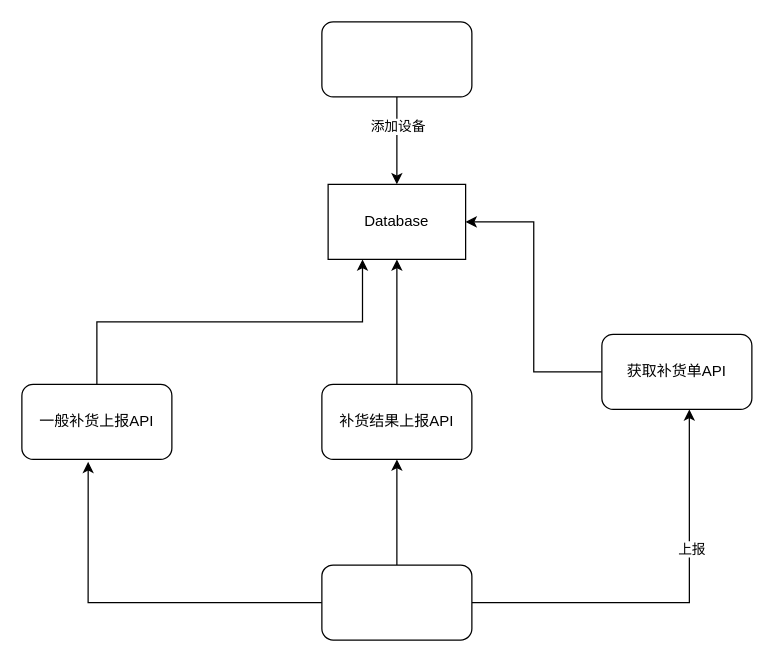
Some shapes in this 774 by 663 pixel diagram are drawn without their labels. The shapes that lost their labels are listed below. From the top down, each one's centre as x and y in pixels, then its label:
At pixel 396 59: "后台".
At pixel 396 602: "设备".
